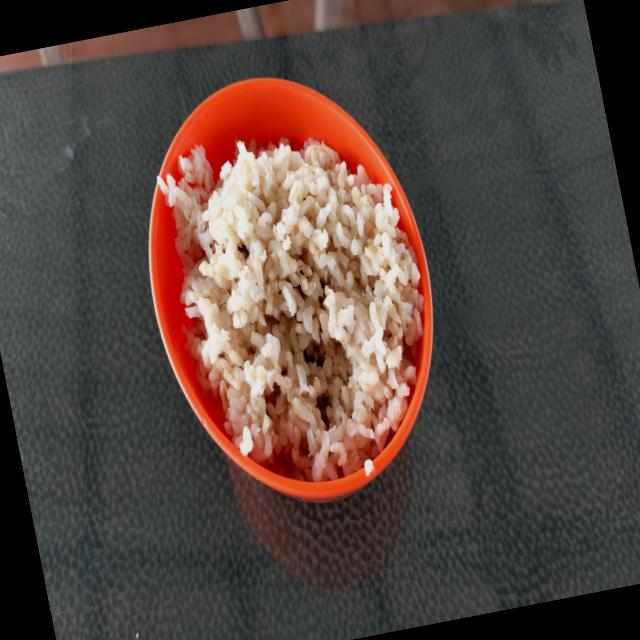brown-rice: (158, 138, 423, 482)
